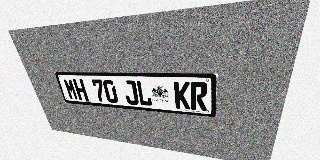0: (102, 79, 119, 103)
7: (91, 79, 107, 102)
H: (72, 79, 89, 101)
J: (122, 80, 139, 105)
K: (174, 81, 190, 109)
L: (136, 80, 152, 106)
M: (63, 78, 79, 100)
R: (190, 82, 208, 111)
